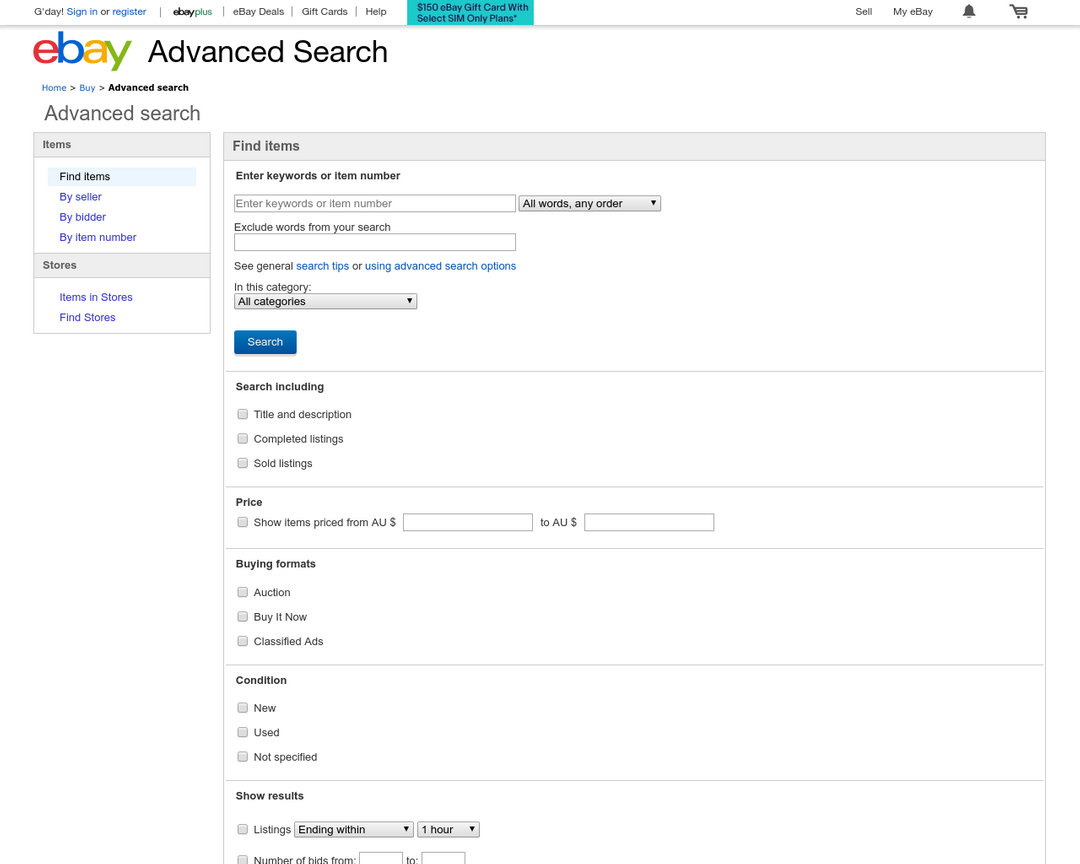Ebay: (33, 27, 140, 75)
